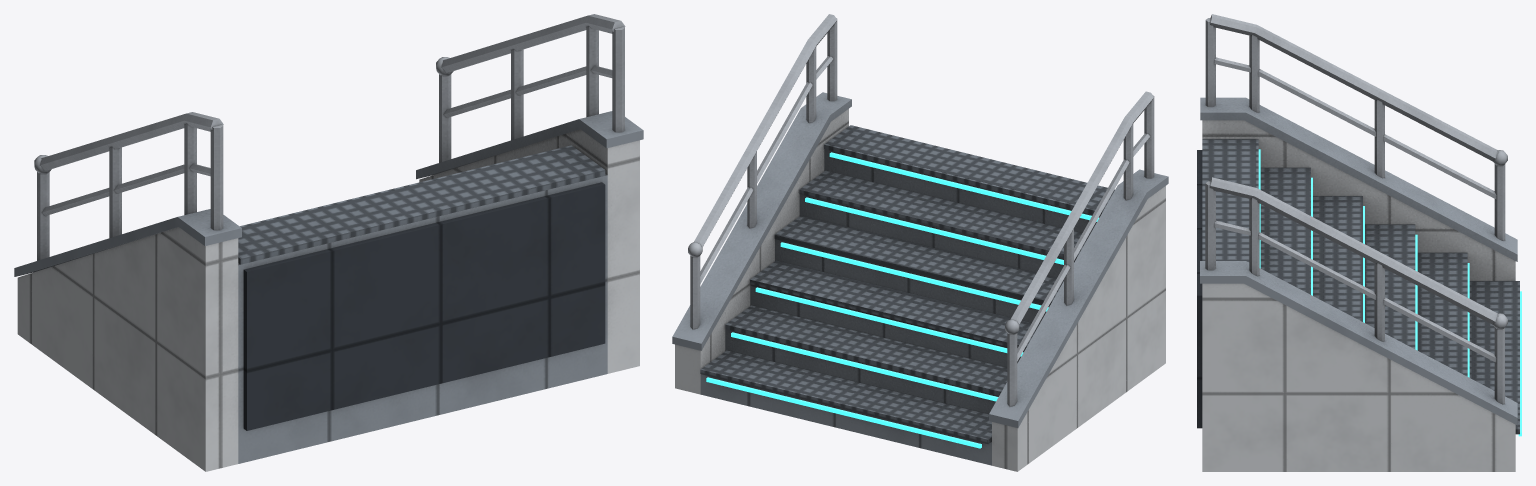
File: escalera_publica.fbx
3 views of the same model, side by side, from view 1: azimuth 30°, elevation 25°; view 2: azimuth 150°, elevation 25°; view 3: azimuth 270°, elevation 25° (orthographic). The views are drawn at different scales.
Visible parts, largest first — view 1: escalera_publica; view 2: escalera_publica, escalera_publica_neon; view 3: escalera_publica, escalera_publica_neon.
Part boxes in pixels (bbox=[...]): escalera_publica: bbox=[14, 14, 643, 471]; escalera_publica: bbox=[672, 14, 1168, 471]; escalera_publica_neon: bbox=[706, 152, 1098, 448]; escalera_publica: bbox=[1197, 14, 1519, 471]; escalera_publica_neon: bbox=[1258, 149, 1521, 436].
Size of the model in its own units: 4.04 by 3.03 by 3.11.
Materials: 2 (2 with a texture image).
